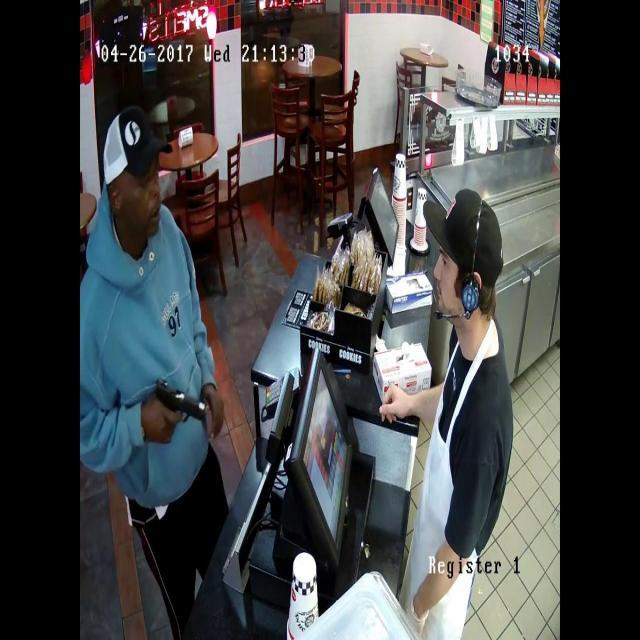weapon: (134, 366, 220, 453)
